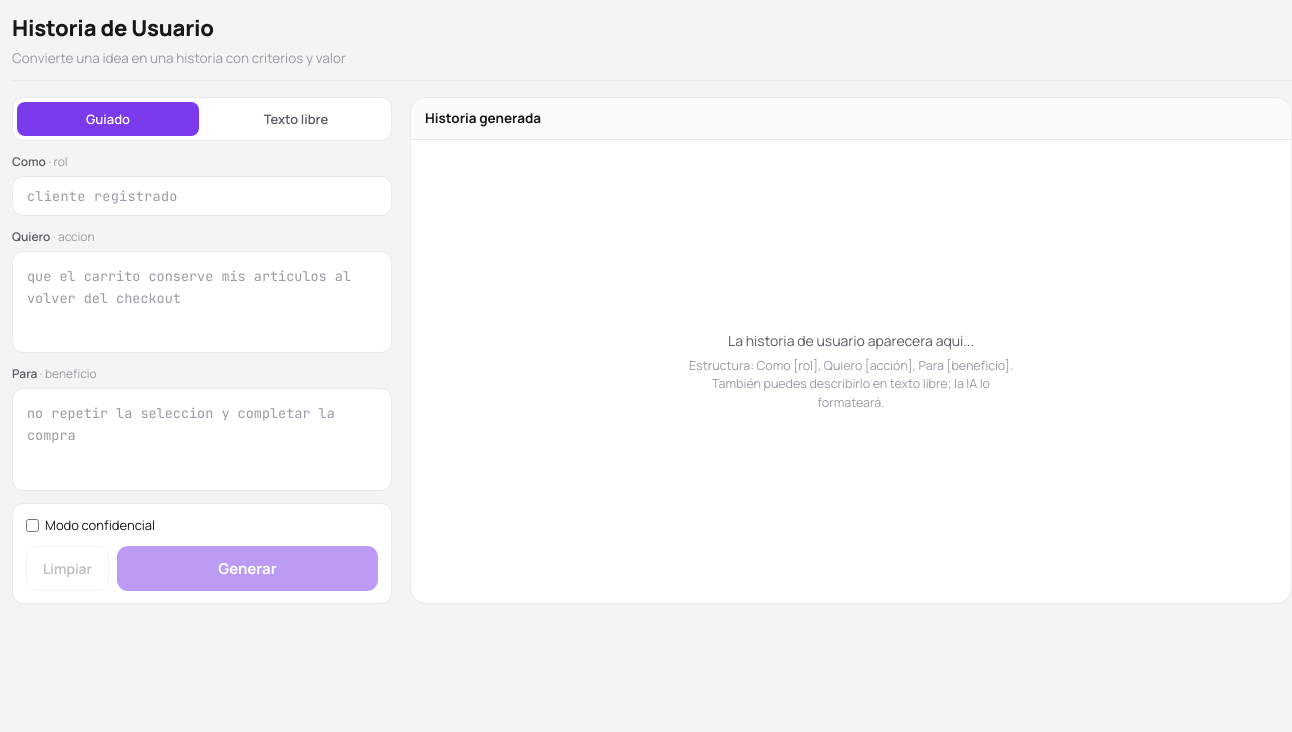
Test: UserStoryTool input guidance › renders a persistent hint below the field that survives typing (es)
Click the tab "Texto libre" at (296, 119), box [205, 102, 387, 136]
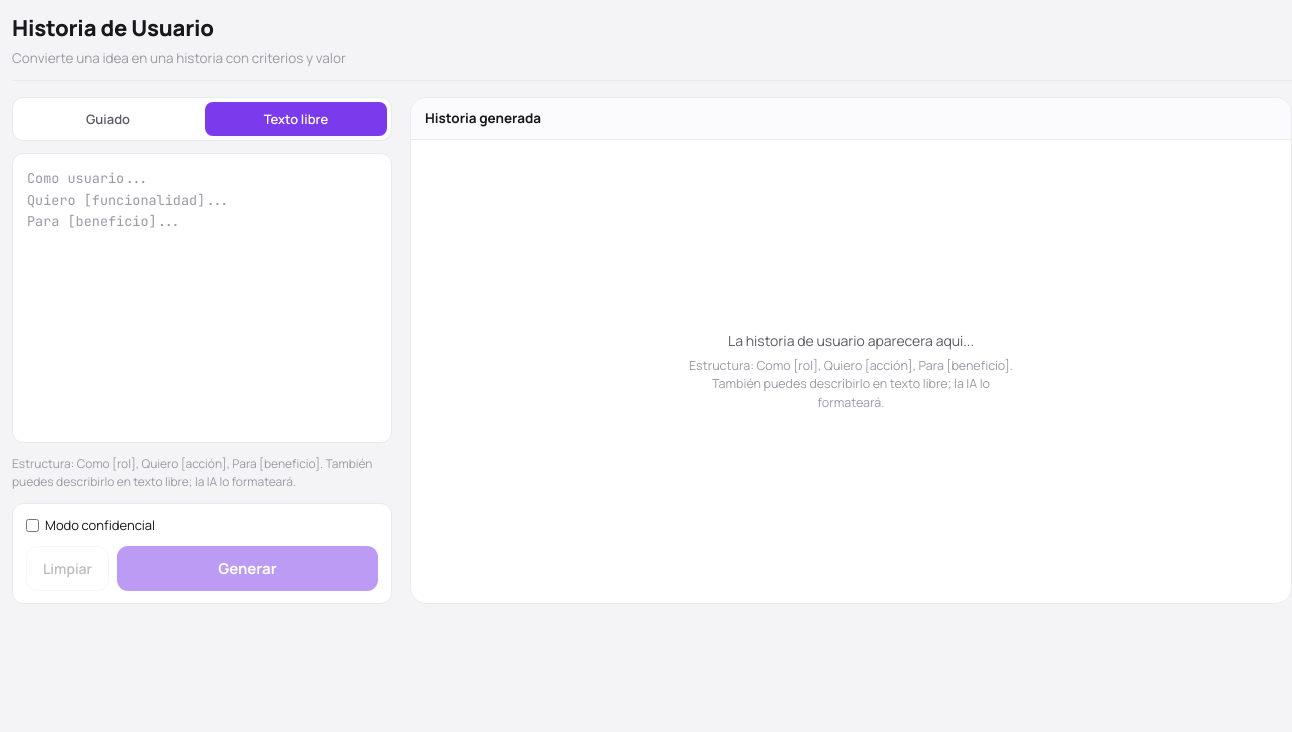
Expected: the 2nd text "También puedes describirlo en texto libre" is shown, [12, 454, 372, 490]
